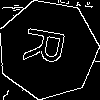R: (23, 24, 75, 68)
